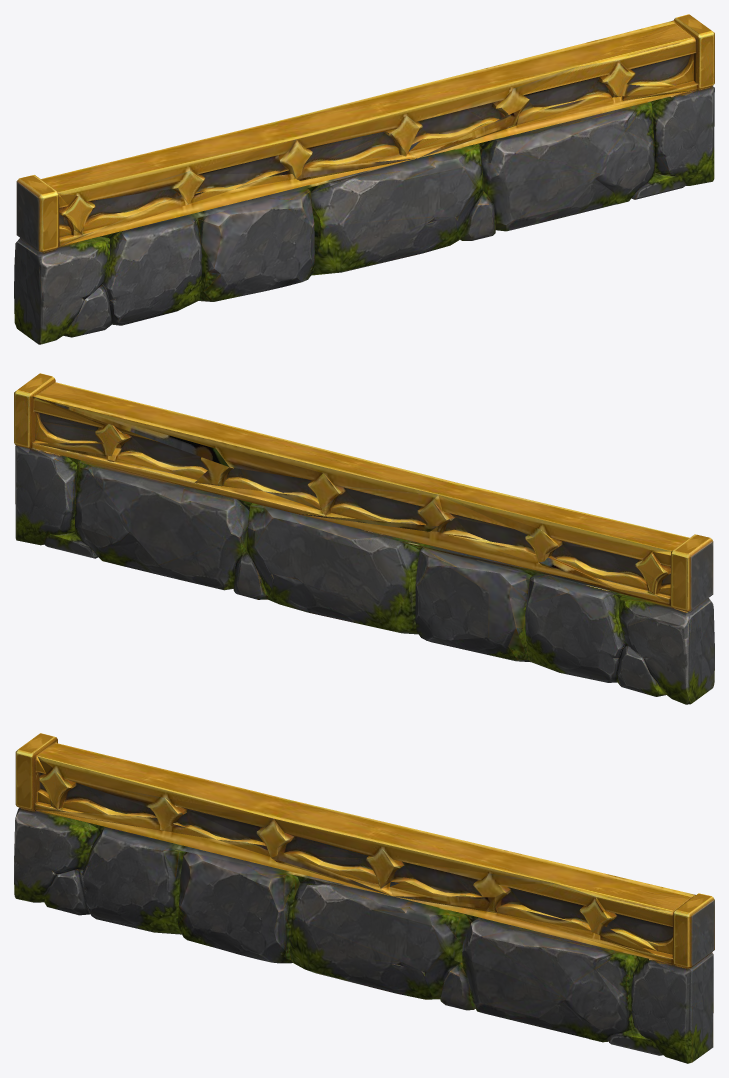
File: golf-wall.glb
3 views of the same model, one above another, from view 1: azimuth 30°, elevation 25°; view 2: azimuth 150°, elevation 25°; view 3: azimuth 330°, elevation 25° (orthographic).
Visible parts, largest first — view 1: output_unwrapped; view 2: output_unwrapped; view 3: output_unwrapped.
Boxes of the visible parts, x1,y1,x2,y2 form: output_unwrapped: (14,14,714,344); output_unwrapped: (14,373,714,704); output_unwrapped: (14,733,714,1063).
Size of the model in its own units: 1.9 by 0.4041 by 0.1644.
Materials: 1 (1 with a texture image).
